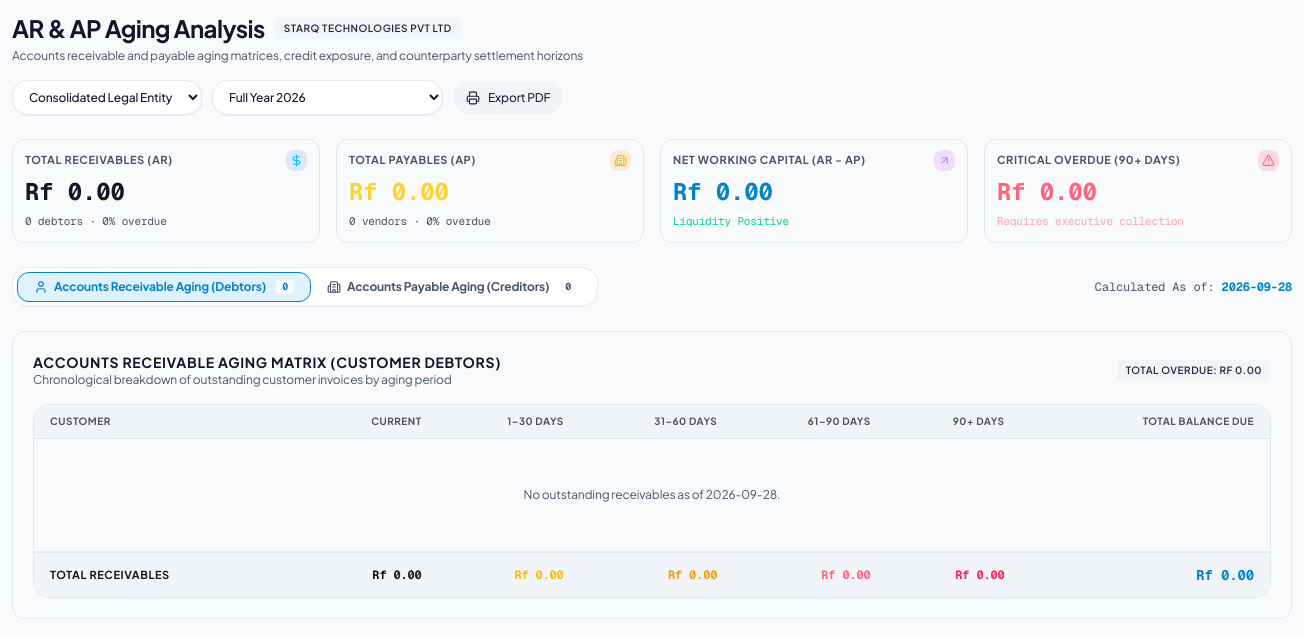
Test case: SERP-293: Authoritative P&L Drilldowns & AR/AP Aging Matrices › renders AR / AP Aging from its persistent deep link
Expected: the element with test id "ar-aging-table" is shown, [12,331,1292,619]
Expected: the heading "Accounts Receivable Aging Matrix (Customer Debtors)" is shown, [33,352,501,372]
# Switch to AP tab
Click the button with test id "ap-tab-btn" at (452, 287), box [311,272,593,302]
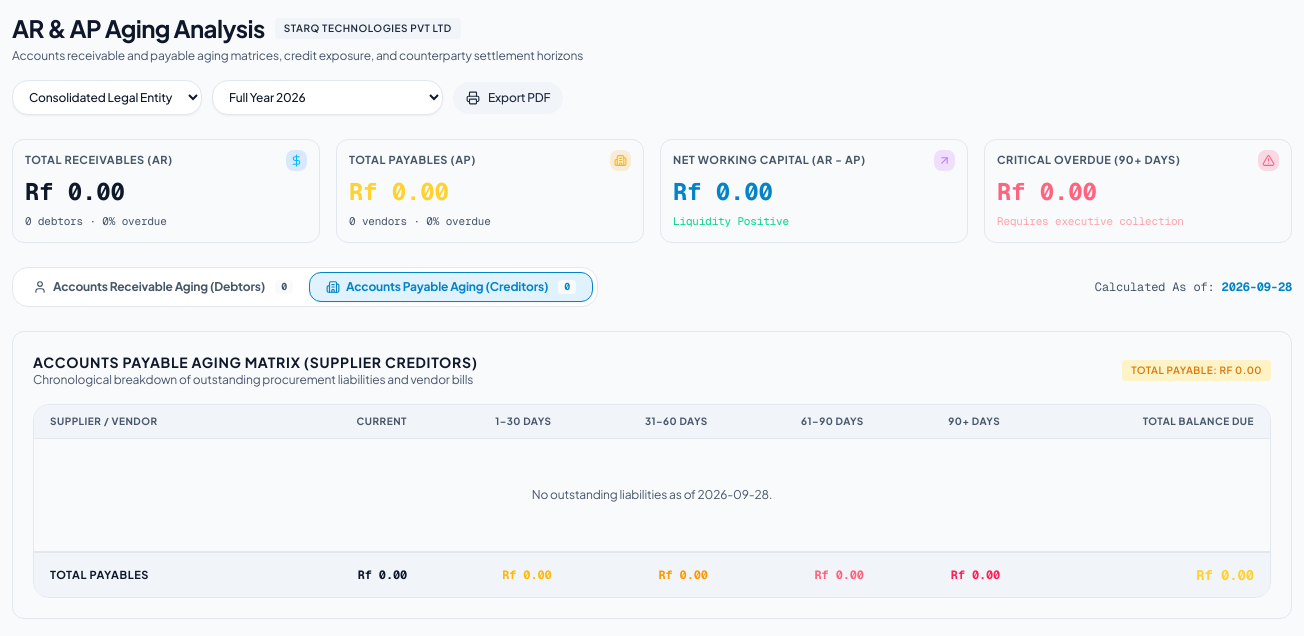
Expected: the element with test id "ap-aging-table" is shown, [12,331,1292,619]
Expected: the heading "Accounts Payable Aging Matrix (Supplier Creditors)" is shown, [33,352,478,372]
